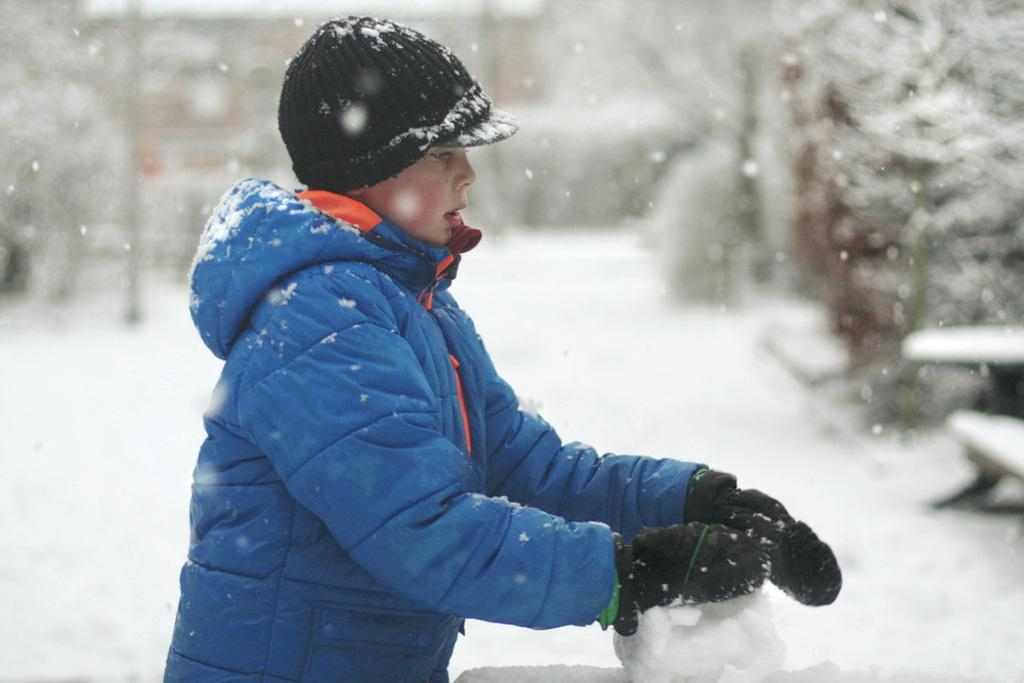Hat: (278, 16, 524, 191)
